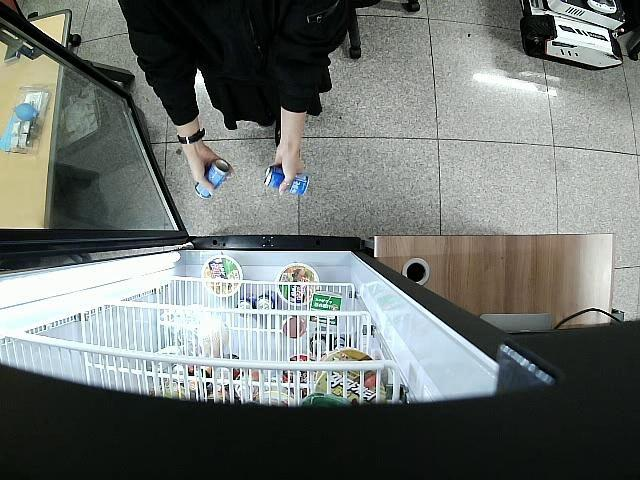15_letsbe: (266, 164, 312, 196), (195, 160, 232, 198)
